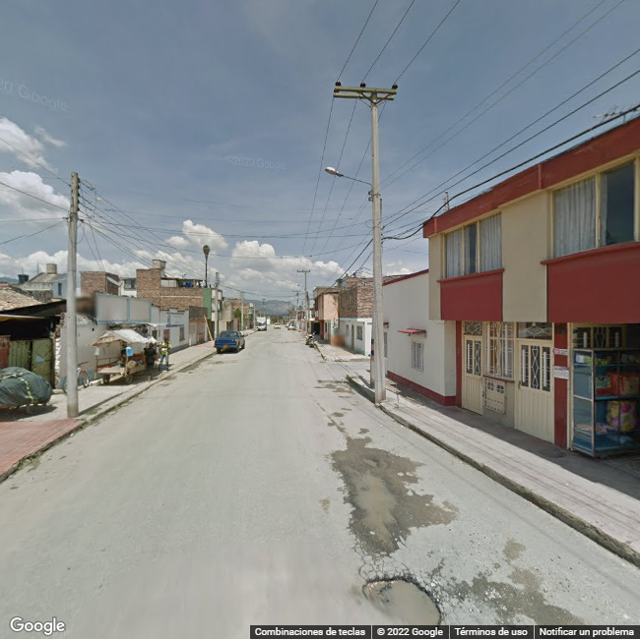D40: (345, 460, 400, 545), (365, 574, 448, 624)
